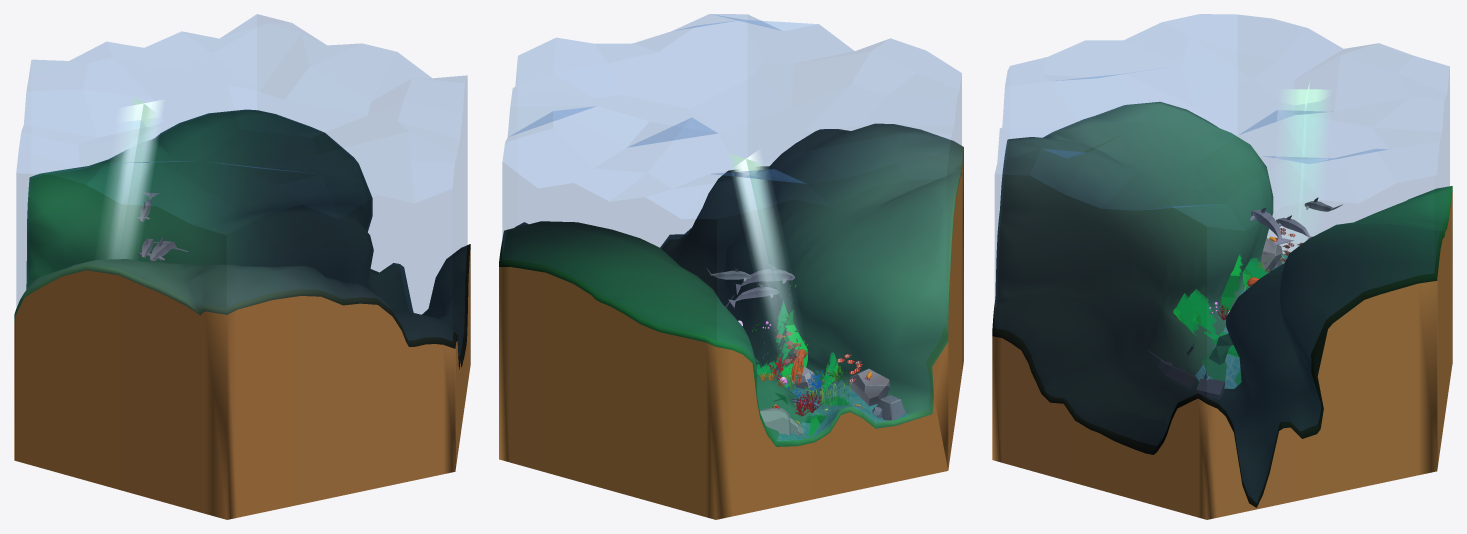
File: Acuáticos.glb
3 views of the same model, side by side, from view 1: azimuth 30°, elevation 25°; view 2: azimuth 150°, elevation 25°; view 3: azimuth 270°, elevation 25° (orthographic).
Visible parts, largest first — view 1: ground, water.001, blur1.001; view 2: water.001, ground, blur1.001, water, dada21.008, rock.002, rock.006, dolphin; view 3: water.001, ground, blur1.001, ship, rock.001, dada21.008, Untitled-1.004, water, Untitled-1.002.
Part boxes in pixels (bbox=[...]): ground: bbox=[14, 109, 470, 519]; water.001: bbox=[16, 14, 467, 354]; blur1.001: bbox=[107, 96, 163, 258]; water.001: bbox=[502, 14, 961, 439]; ground: bbox=[499, 123, 963, 519]; blur1.001: bbox=[728, 150, 793, 347]; water: bbox=[774, 369, 908, 440]; dada21.008: bbox=[752, 285, 849, 436]; rock.002: bbox=[849, 368, 889, 405]; rock.006: bbox=[759, 407, 790, 435]; dolphin: bbox=[735, 264, 794, 294]; water.001: bbox=[995, 14, 1449, 502]; ground: bbox=[992, 102, 1452, 519]; blur1.001: bbox=[1281, 82, 1329, 246]; ship: bbox=[1147, 343, 1225, 399]; rock.001: bbox=[1201, 333, 1233, 381]; dada21.008: bbox=[1221, 230, 1277, 385]; Untitled-1.004: bbox=[1188, 289, 1218, 335]; water: bbox=[1195, 254, 1287, 388]; Untitled-1.002: bbox=[1173, 293, 1198, 335].
Bounding box in the file's own units: 65506 × 43813 × 58701.
Materials: 11 (9 with a texture image).
